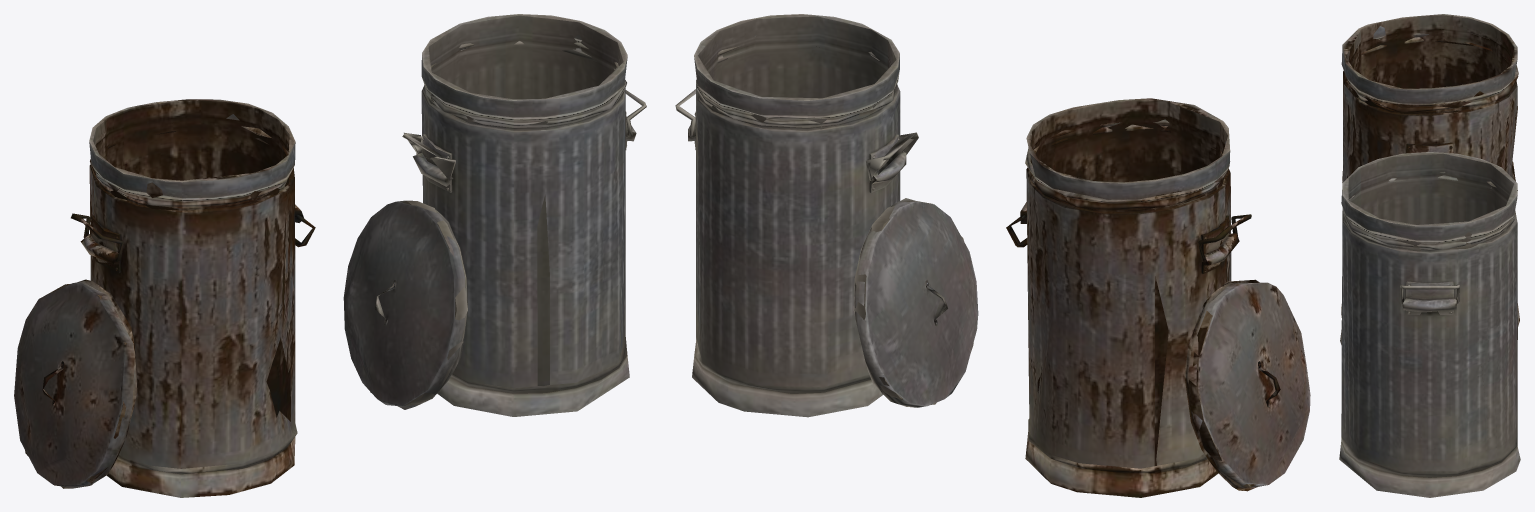
File: metal_trash_can.gltf
3 renders of one model, left to right at view 1: azimuth 30°, elevation 25°; view 2: azimuth 150°, elevation 25°; view 3: azimuth 270°, elevation 25°, orthographic. The views are drawn at different scales.
Parts seen in each view (by area): view 1: metal_trash_can_rust, metal_trash_can, metal_trash_can_lid, metal_trash_can_rust_lid, metal_trash_can_handle_left; view 2: metal_trash_can, metal_trash_can_rust, metal_trash_can_rust_lid, metal_trash_can_lid, metal_trash_can_handle_left; view 3: metal_trash_can, metal_trash_can_rust, metal_trash_can_handle_right.
Part boxes in pixels (left/top/right/bottom): metal_trash_can_rust: left=80, top=99, right=303, bottom=497; metal_trash_can: left=413, top=14, right=636, bottom=416; metal_trash_can_lid: left=343, top=200, right=467, bottom=409; metal_trash_can_rust_lid: left=14, top=279, right=137, bottom=488; metal_trash_can_handle_left: left=402, top=132, right=455, bottom=180; metal_trash_can: left=688, top=14, right=906, bottom=417; metal_trash_can_rust: left=1020, top=98, right=1239, bottom=497; metal_trash_can_rust_lid: left=1184, top=279, right=1310, bottom=491; metal_trash_can_lid: left=853, top=198, right=978, bottom=407; metal_trash_can_handle_left: left=866, top=132, right=918, bottom=181; metal_trash_can: left=1339, top=152, right=1520, bottom=497; metal_trash_can_rust: left=1341, top=14, right=1519, bottom=326; metal_trash_can_handle_right: left=1400, top=284, right=1459, bottom=303.
Size of the model in its own units: 1.78 by 0.9062 by 0.5514.
3 materials, 3 textured.
